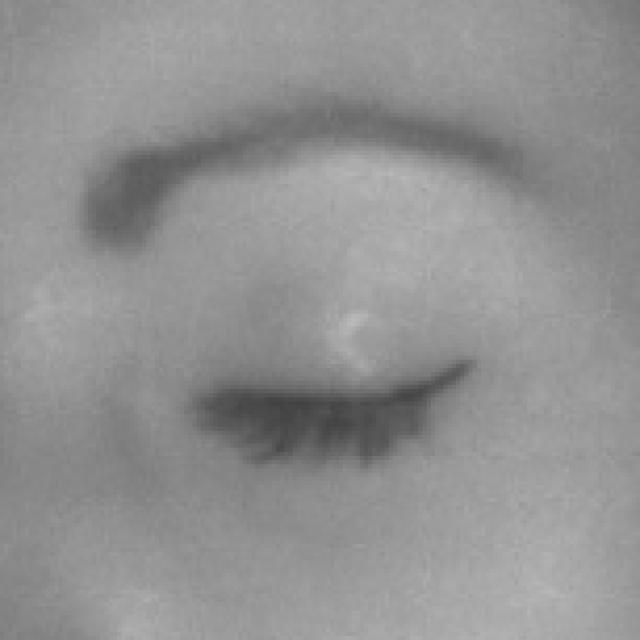Eyeclosed: (200, 276, 476, 546)
